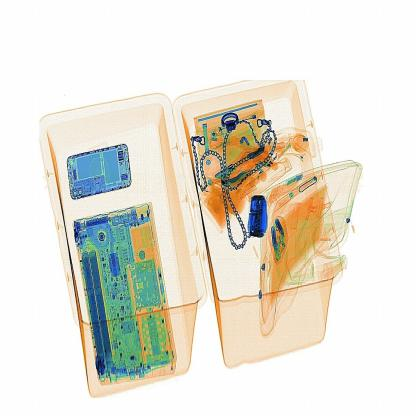scissors: (244, 190, 276, 242)
